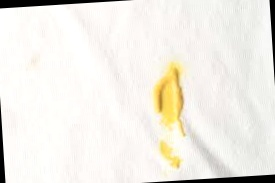mustard: (148, 64, 190, 137), (154, 140, 186, 172)
